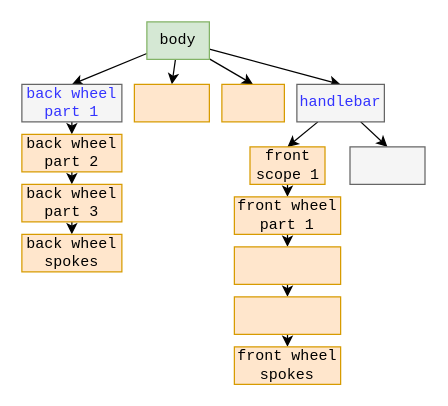
Image size: 448x406. Some labels were removed from this diagram. The centre of each missing label's shape, as x and y in pixels:
engine: (x=252, y=102)
footrest: (x=171, y=102)
front scope 2: (x=387, y=165)
front wheel part 2: (x=287, y=265)
front wheel part 3: (x=287, y=315)
